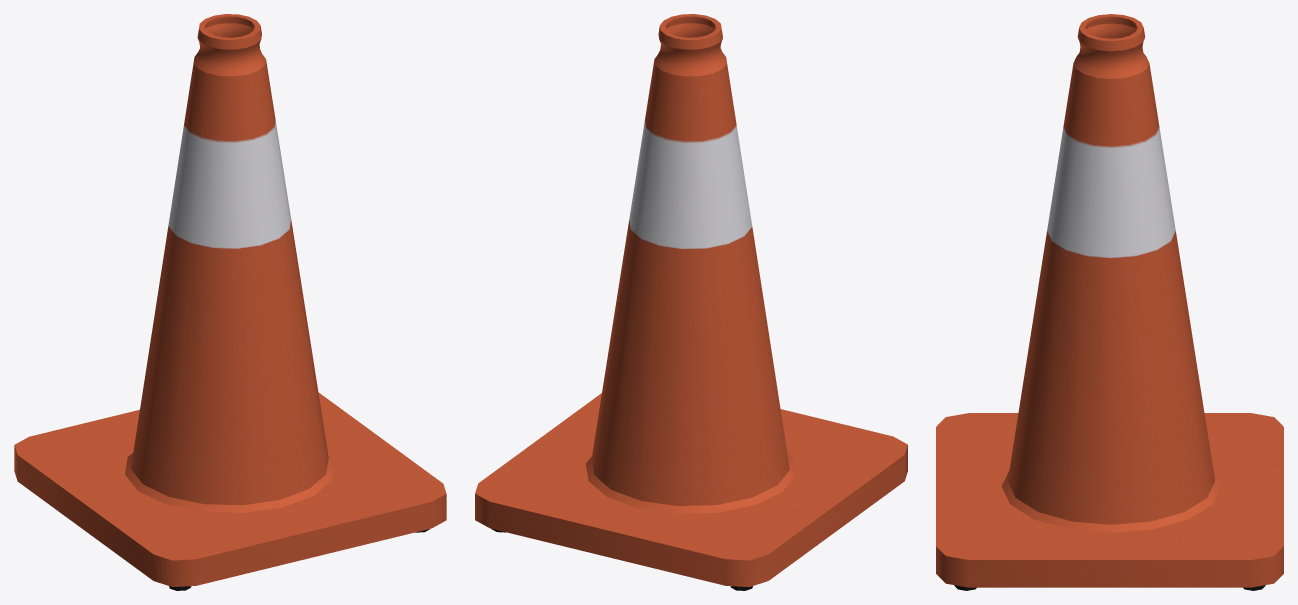
Rendered from SM05_Safety_SafetyCone_01_S.fbx.
3 views of the same model, side by side, from view 1: azimuth 30°, elevation 25°; view 2: azimuth 150°, elevation 25°; view 3: azimuth 270°, elevation 25° (orthographic). The views are drawn at different scales.
Visible parts, largest first — view 1: SM05_Safety_SafetyCone_01_S; view 2: SM05_Safety_SafetyCone_01_S; view 3: SM05_Safety_SafetyCone_01_S.
Part boxes in pixels (bbox=[...]): SM05_Safety_SafetyCone_01_S: bbox=[14, 14, 446, 590]; SM05_Safety_SafetyCone_01_S: bbox=[475, 14, 907, 590]; SM05_Safety_SafetyCone_01_S: bbox=[936, 14, 1283, 590].
Bounding box in the file's own units: 0.285 × 0.45 × 0.285.
